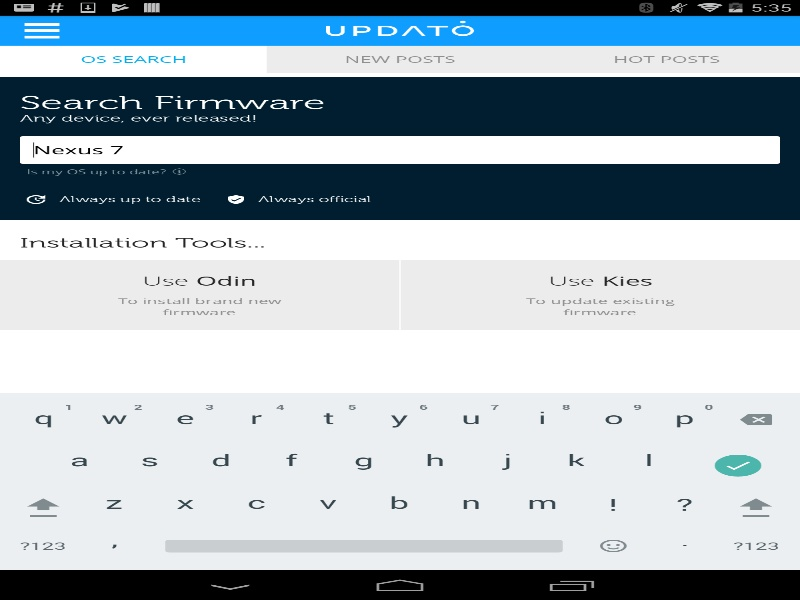Input: (20, 136, 780, 163)
